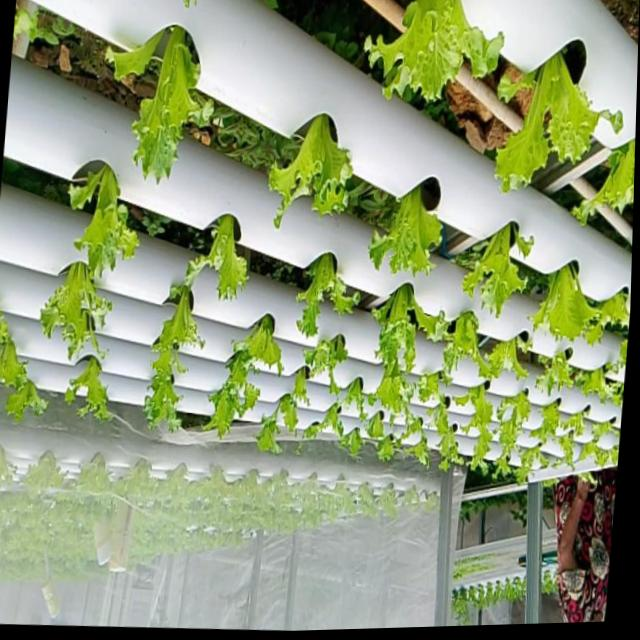Baby: (499, 57, 625, 195), (368, 0, 506, 104), (138, 27, 216, 184), (272, 115, 356, 228), (148, 277, 207, 430), (75, 164, 144, 277), (372, 178, 446, 275), (46, 261, 116, 359), (466, 222, 531, 318), (532, 264, 602, 346), (300, 253, 363, 337), (189, 214, 251, 299), (207, 350, 263, 437), (438, 311, 503, 381), (496, 391, 535, 475), (307, 334, 361, 394), (371, 358, 419, 421), (70, 355, 116, 420), (237, 314, 287, 373), (0, 319, 34, 392), (520, 447, 552, 484), (536, 403, 564, 445), (404, 414, 427, 445), (421, 373, 444, 403), (562, 432, 579, 470)
